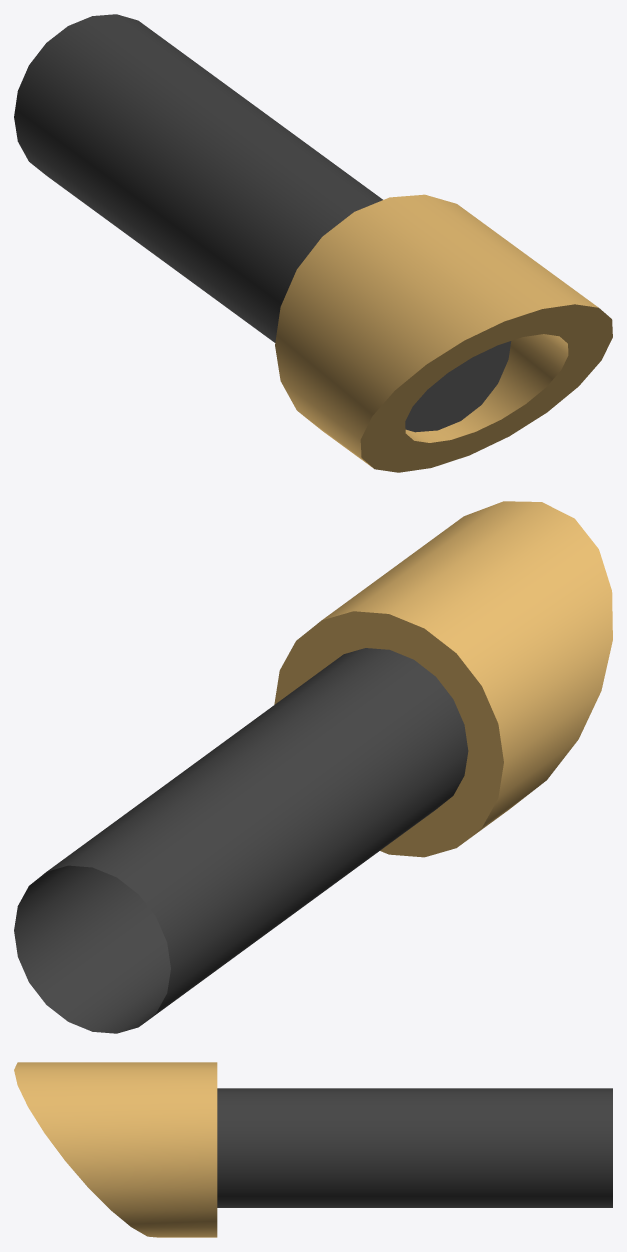
File: Gun_Burrle.fbx
3 views of the same model, one above another, from view 1: azimuth 30°, elevation 25°; view 2: azimuth 150°, elevation 25°; view 3: azimuth 270°, elevation 25° (orthographic). The views are drawn at different scales.
Visible parts, largest first — view 1: polySurface48; view 2: polySurface48; view 3: polySurface48.
Boxes of the visible parts, x1=… form: polySurface48: x1=14, y1=14, x2=612, y2=472; polySurface48: x1=14, y1=501, x2=612, y2=1033; polySurface48: x1=14, y1=1062, x2=612, y2=1237.
Bounding box in the file's own units: 39.95 × 39.95 × 136.
